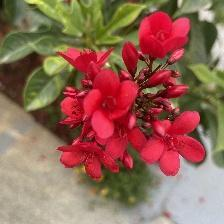jatropha: (143, 111, 208, 179), (84, 70, 143, 139), (138, 10, 194, 62)
